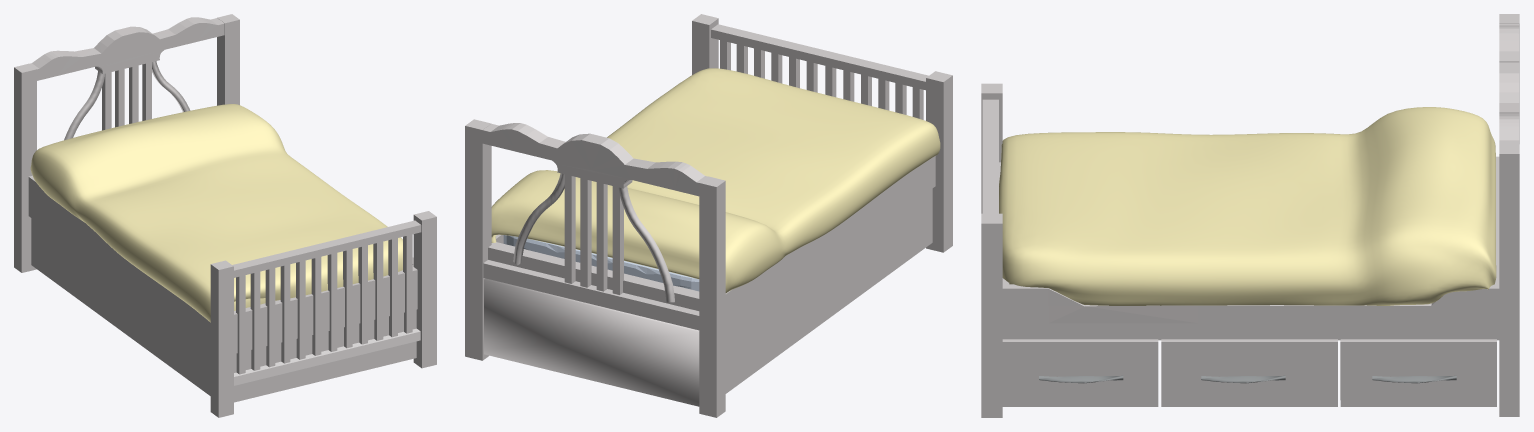
The model's file is captainsBed.glb.
3 renders of one model, left to right at view 1: azimuth 30°, elevation 25°; view 2: azimuth 150°, elevation 25°; view 3: azimuth 270°, elevation 25°, orthographic. The views are drawn at different scales.
Parts seen in each view (by area): view 1: captainsBed; view 2: captainsBed; view 3: captainsBed.
Part boxes in pixels (left/top/right/bottom): captainsBed: left=14, top=14, right=436, bottom=417; captainsBed: left=465, top=14, right=952, bottom=417; captainsBed: left=981, top=14, right=1519, bottom=417.
Size of the model in its own units: 1.32 by 1.19 by 2.08.
